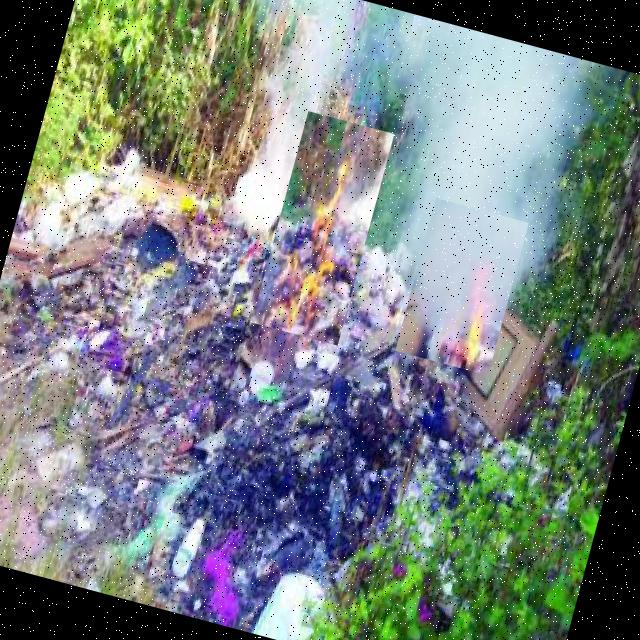fire: (251, 110, 394, 346), (394, 198, 528, 375)
